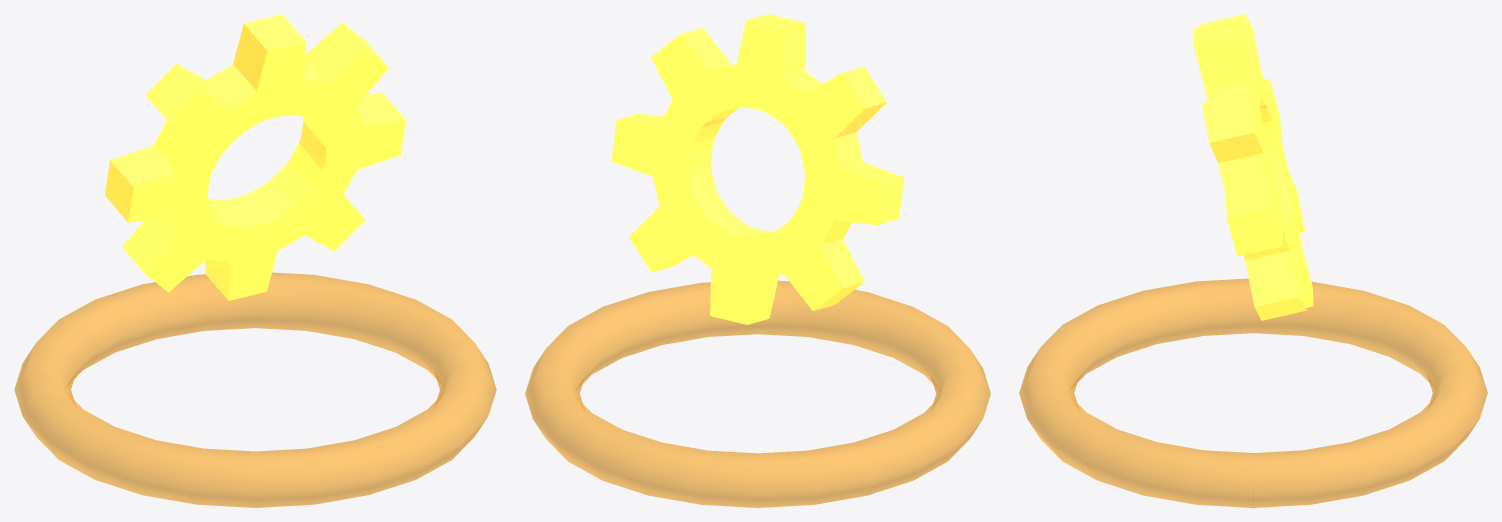
Rendered from pickup_scrap.glb.
3 renders of one model, left to right at view 1: azimuth 30°, elevation 25°; view 2: azimuth 150°, elevation 25°; view 3: azimuth 270°, elevation 25°, orthographic. The views are drawn at different scales.
Parts seen in each view (by area): view 1: _MeshInstance3D_4258, _MeshInstance3D_4257; view 2: _MeshInstance3D_4258, _MeshInstance3D_4257; view 3: _MeshInstance3D_4258, _MeshInstance3D_4257.
Part boxes in pixels (bbox=[...]): _MeshInstance3D_4258: bbox=[14, 272, 496, 507]; _MeshInstance3D_4257: bbox=[105, 14, 405, 300]; _MeshInstance3D_4258: bbox=[525, 280, 990, 507]; _MeshInstance3D_4257: bbox=[611, 14, 904, 324]; _MeshInstance3D_4258: bbox=[1019, 278, 1487, 507]; _MeshInstance3D_4257: bbox=[1193, 14, 1313, 320].
Size of the model in its own units: 0.68 by 0.6202 by 0.68.
